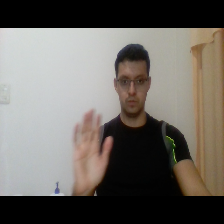left: (68, 105, 117, 191)
